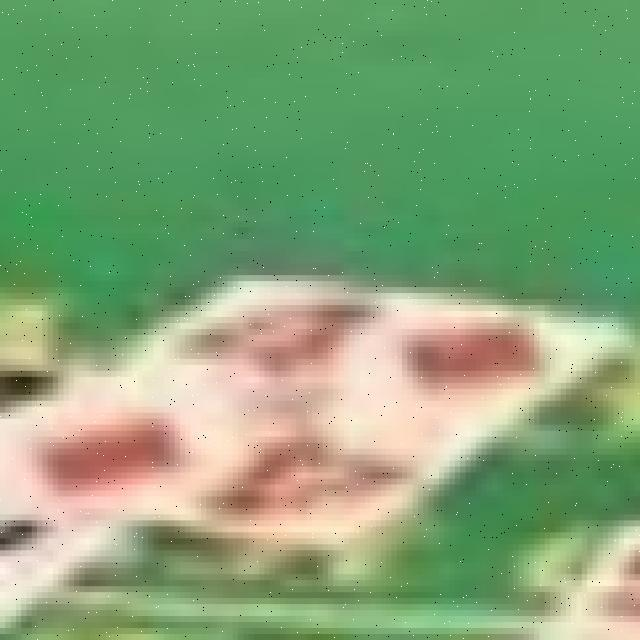Card-4: (0, 280, 621, 573)
